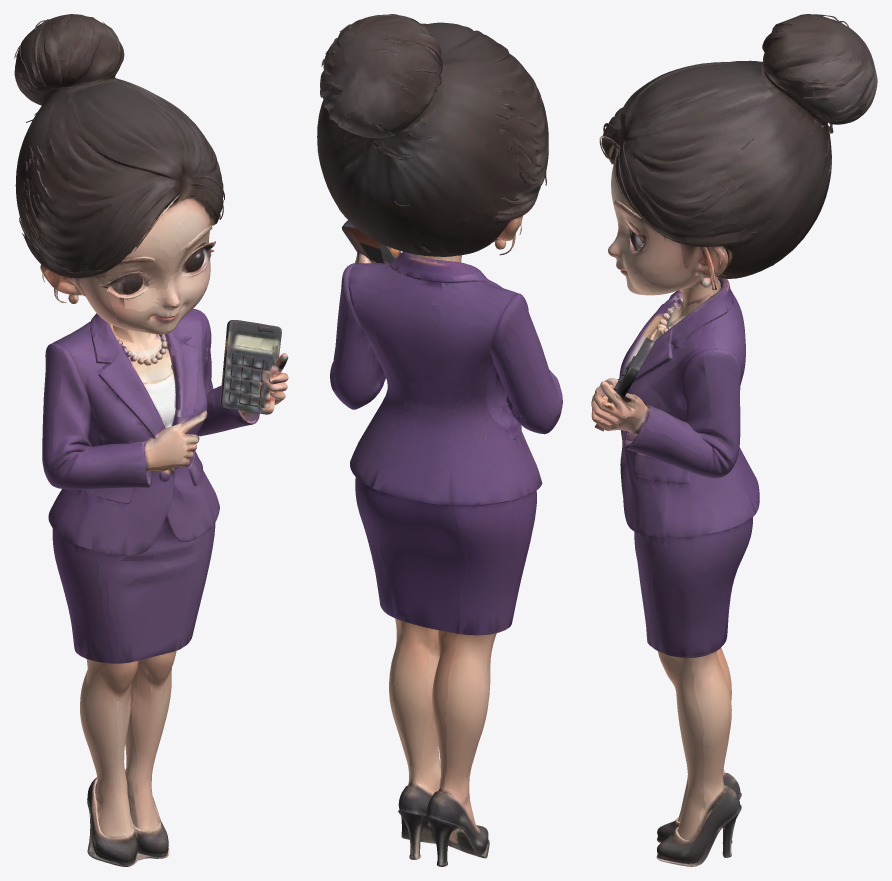
Rendered from qian.glb.
3 renders of one model, left to right at view 1: azimuth 30°, elevation 25°; view 2: azimuth 150°, elevation 25°; view 3: azimuth 270°, elevation 25°, orthographic. The views are drawn at different scales.
Visible parts, largest first — view 1: geometry_0; view 2: geometry_0; view 3: geometry_0.
Boxes of the visible parts, box(x1,y1,x2,y2) form: geometry_0: box(14, 14, 288, 866); geometry_0: box(317, 14, 562, 866); geometry_0: box(591, 14, 877, 866).
Bounding box in the file's own units: 0.3366 × 1.18 × 0.3692.
Materials: 1 (1 with a texture image).
